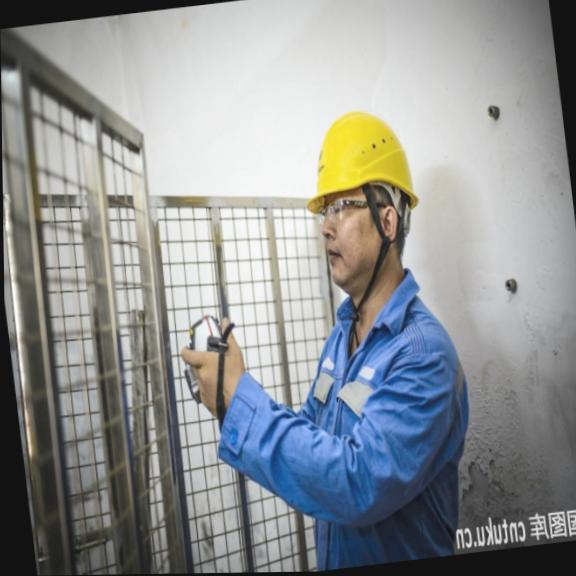no_safety_vest: (291, 272, 475, 536)
